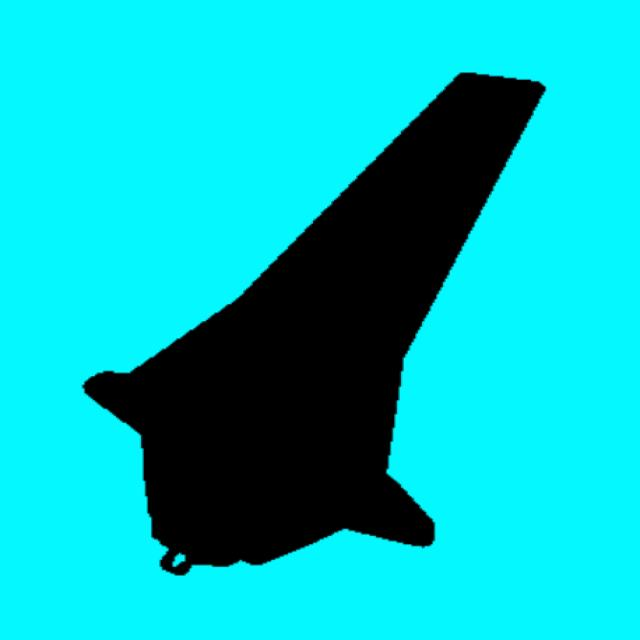BlackBuoy: (86, 74, 544, 574)
